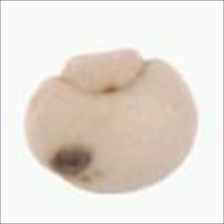L5: (52, 47, 154, 98), (36, 141, 121, 197)
L6: (21, 48, 200, 198)
